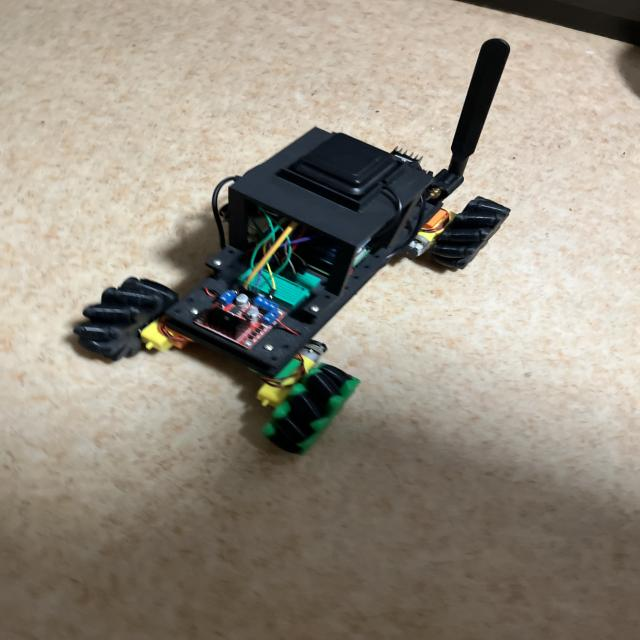robot: (74, 39, 510, 453)
